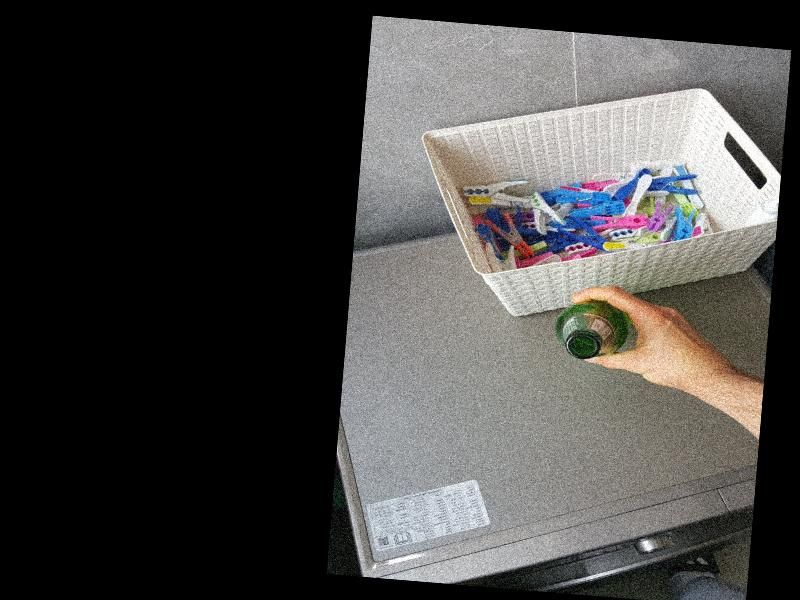Beer: (552, 297, 631, 363)
